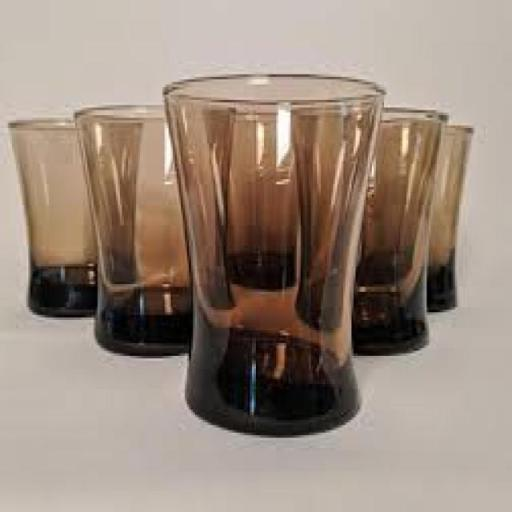glass: (156, 44, 392, 455), (74, 104, 196, 356), (346, 98, 448, 384), (6, 120, 100, 316), (426, 120, 478, 328)
